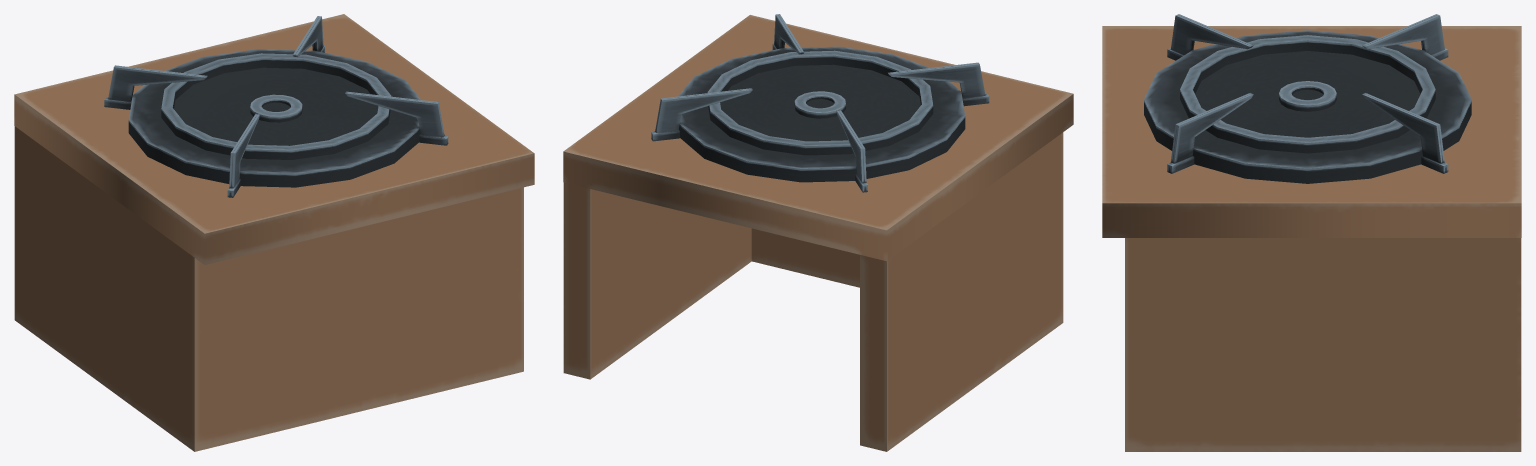
Rendered from table3.fbx.
3 views of the same model, side by side, from view 1: azimuth 30°, elevation 25°; view 2: azimuth 150°, elevation 25°; view 3: azimuth 270°, elevation 25° (orthographic). The views are drawn at different scales.
Visible parts, largest first — view 1: table3; view 2: table3; view 3: table3.
Part boxes in pixels (box(x1,y1,x2,y2)): table3: box(14, 14, 534, 451); table3: box(563, 14, 1073, 451); table3: box(1102, 14, 1521, 451).
Size of the model in its own units: 200 by 154 by 200.
Materials: 1 (1 with a texture image).
